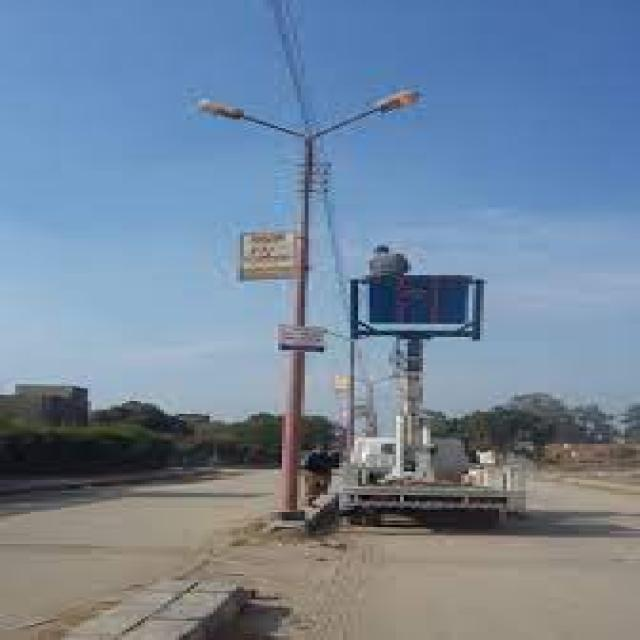Street Light: (198, 87, 423, 512)
